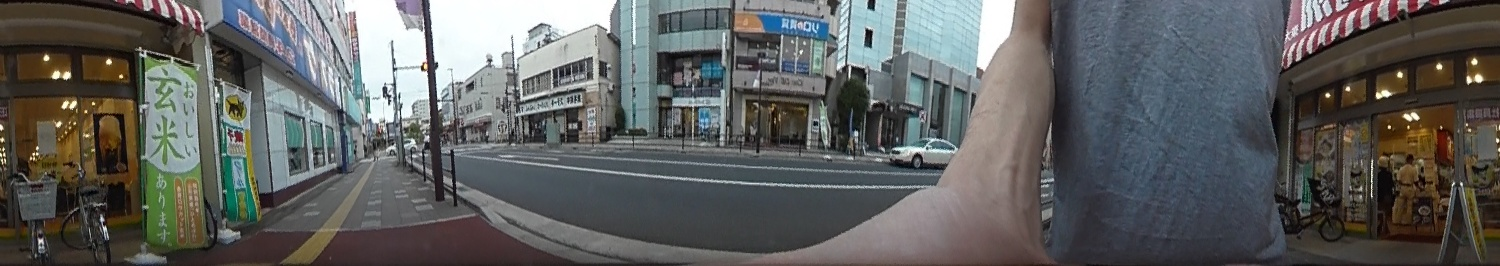difficult_person: (371, 137, 380, 162)
person: (1393, 151, 1420, 226), (1376, 152, 1394, 223)
